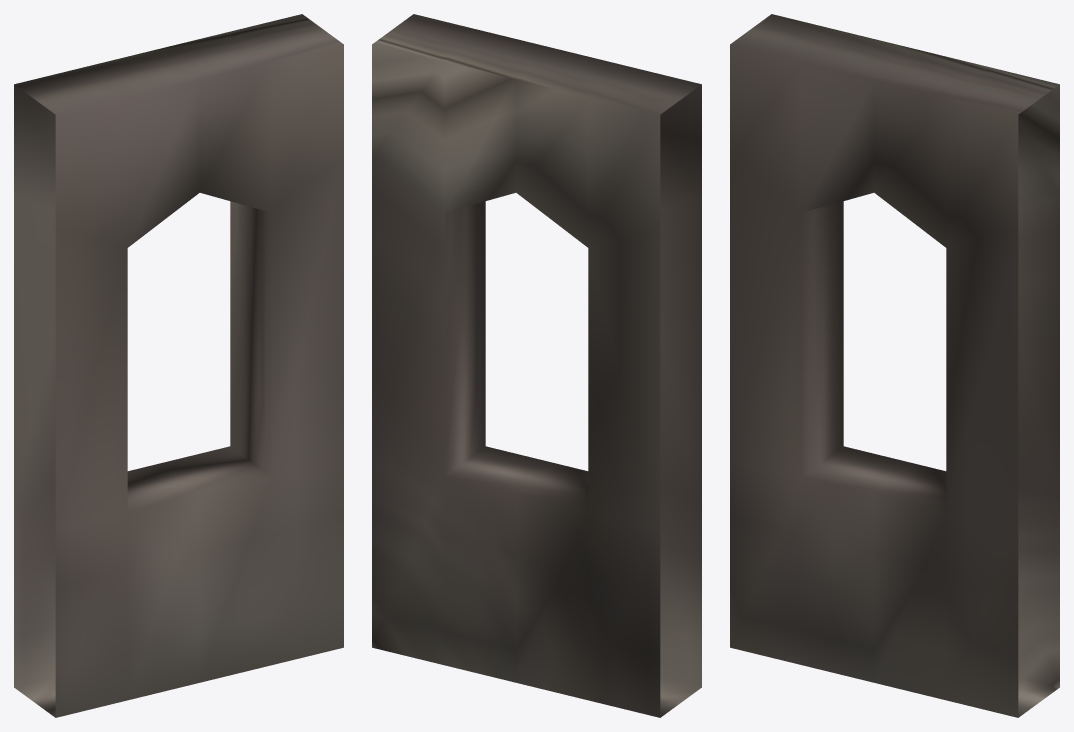
Rendered from towerblock_window.glb.
3 views of the same model, side by side, from view 1: azimuth 30°, elevation 25°; view 2: azimuth 150°, elevation 25°; view 3: azimuth 330°, elevation 25° (orthographic).
Visible parts, largest first — view 1: towerblock_window; view 2: towerblock_window; view 3: towerblock_window.
Boxes of the visible parts, bbox=[...] form: towerblock_window: bbox=[14, 14, 343, 717]; towerblock_window: bbox=[372, 14, 701, 717]; towerblock_window: bbox=[730, 14, 1059, 717].
Size of the model in its own units: 4 by 8 by 1.
1 material, 1 textured.
